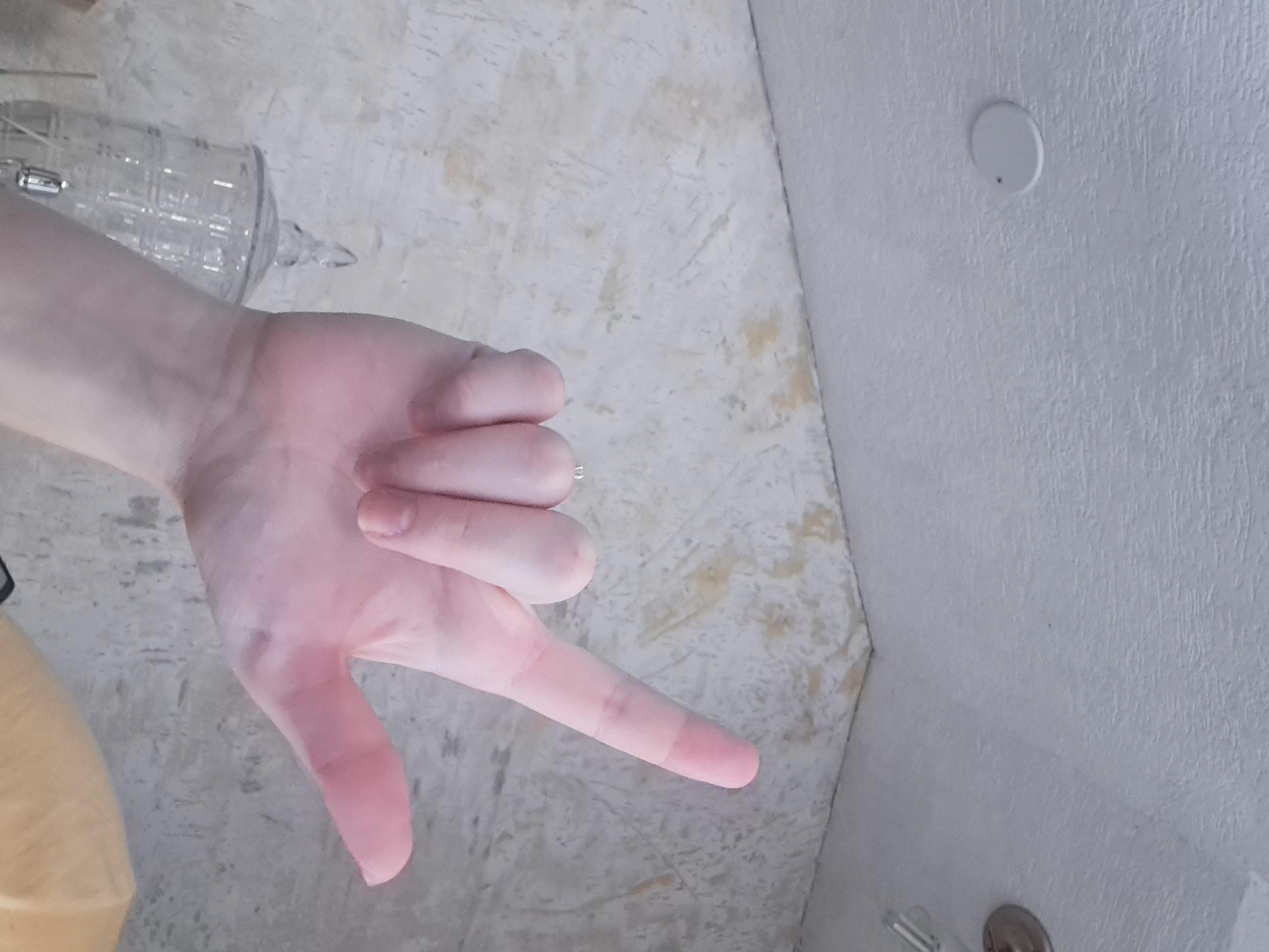L: (420, 376, 1208, 814)
